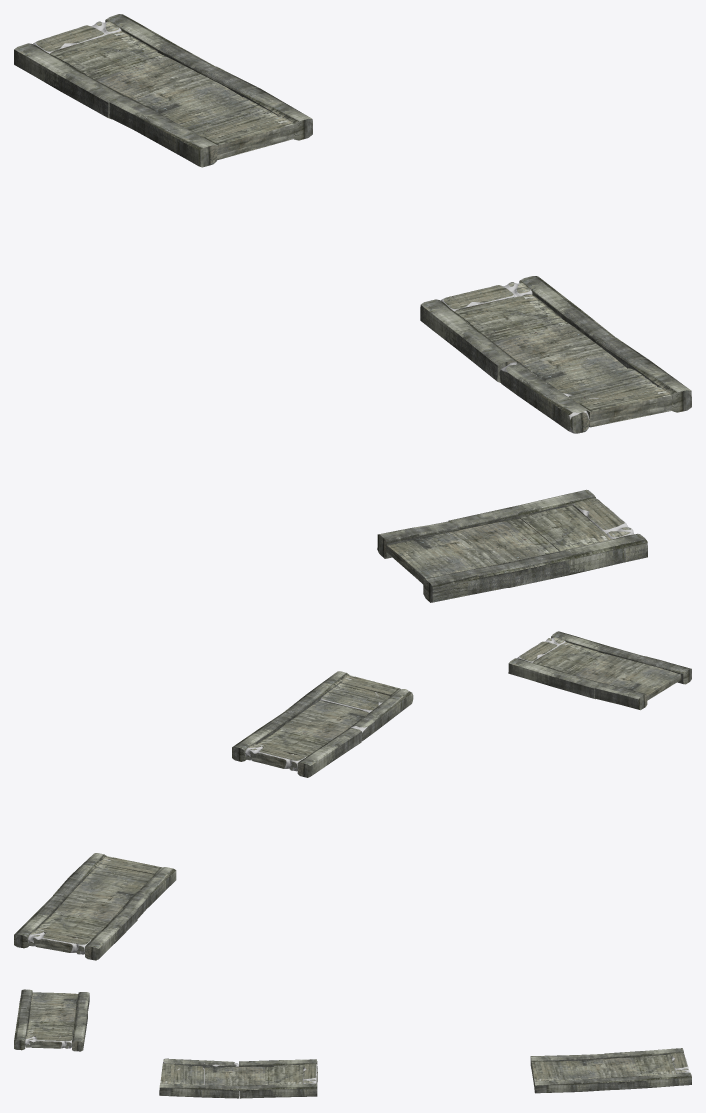
Rendered from SM_Corridor_02_01.fbx.
3 renders of one model, top to bottom at view 1: azimuth 30°, elevation 25°; view 2: azimuth 150°, elevation 25°; view 3: azimuth 270°, elevation 25°, orthographic. The views are drawn at different scales.
Visible parts, largest first — view 1: SM_Corridor_02_01; view 2: SM_Corridor_02_01; view 3: SM_Corridor_02_01.
Part boxes in pixels (x1,y1,x2,y2): SM_Corridor_02_01: (14, 14, 691, 602); SM_Corridor_02_01: (14, 631, 691, 960); SM_Corridor_02_01: (14, 989, 691, 1098).
Size of the model in its own units: 1688 by 106 by 4933.
